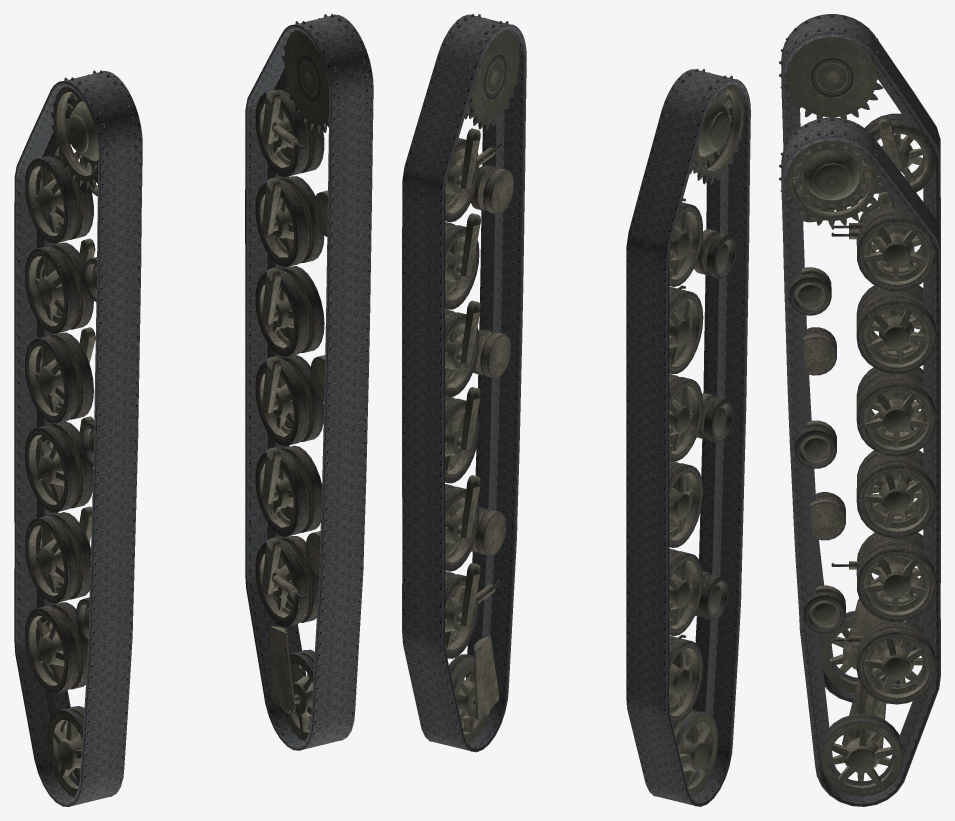
Rendered from Chassis.glb.
The picture shows the model from 3 angles, left to right: view 1: azimuth 30°, elevation 25°; view 2: azimuth 150°, elevation 25°; view 3: azimuth 270°, elevation 25°; orthographic projection. The views are drawn at different scales.
Parts seen in each view (by area): view 1: set_1_group_0, set_0_group_0, set_2_group_0, set_3_group_0; view 2: set_1_group_0, set_0_group_0, set_3_group_0, set_2_group_0; view 3: set_3_group_0, set_0_group_0, set_2_group_0, set_1_group_0.
Boxes of the visible parts, left/top/right/bottom form: set_1_group_0: left=14, top=71, right=142, bottom=806; set_0_group_0: left=245, top=14, right=373, bottom=750; set_2_group_0: left=25, top=70, right=137, bottom=797; set_3_group_0: left=255, top=14, right=368, bottom=741; set_1_group_0: left=626, top=69, right=750, bottom=806; set_0_group_0: left=402, top=14, right=526, bottom=752; set_3_group_0: left=441, top=14, right=519, bottom=742; set_2_group_0: left=662, top=68, right=743, bottom=797; set_3_group_0: left=779, top=118, right=935, bottom=796; set_0_group_0: left=781, top=117, right=940, bottom=806; set_2_group_0: left=779, top=14, right=935, bottom=692; set_1_group_0: left=781, top=14, right=940, bottom=702.
Size of the model in its own units: 2.23 by 5.74 by 1.25.
Materials: 4 (4 with a texture image).
